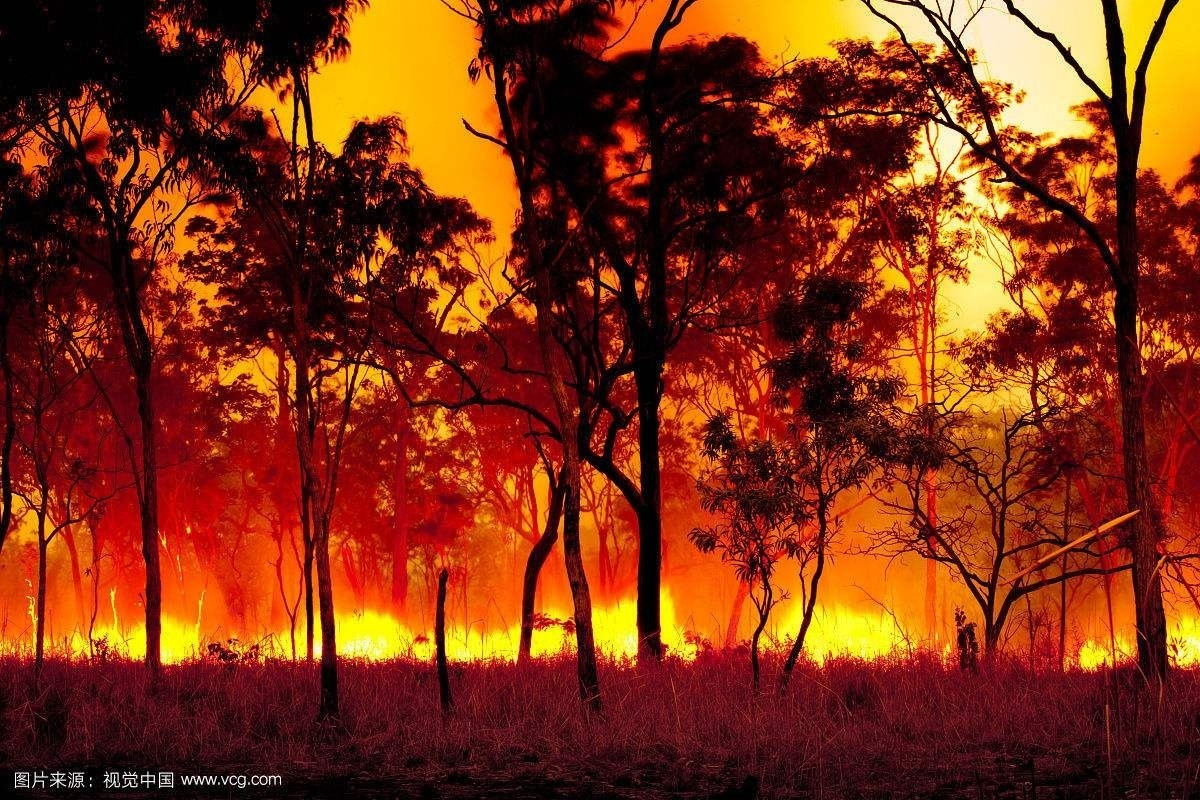fire: (770, 597, 910, 666), (1071, 623, 1138, 673)
